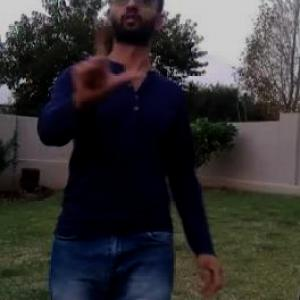land_hand: (64, 22, 142, 110)
